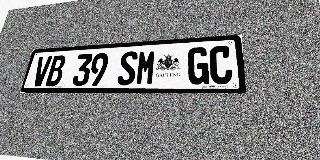3: (72, 53, 93, 86)
9: (88, 52, 109, 86)
B: (45, 55, 67, 86)
C: (209, 45, 233, 84)
G: (187, 47, 209, 85)
M: (135, 50, 157, 85)
S: (117, 51, 138, 85)
V: (31, 56, 52, 86)
